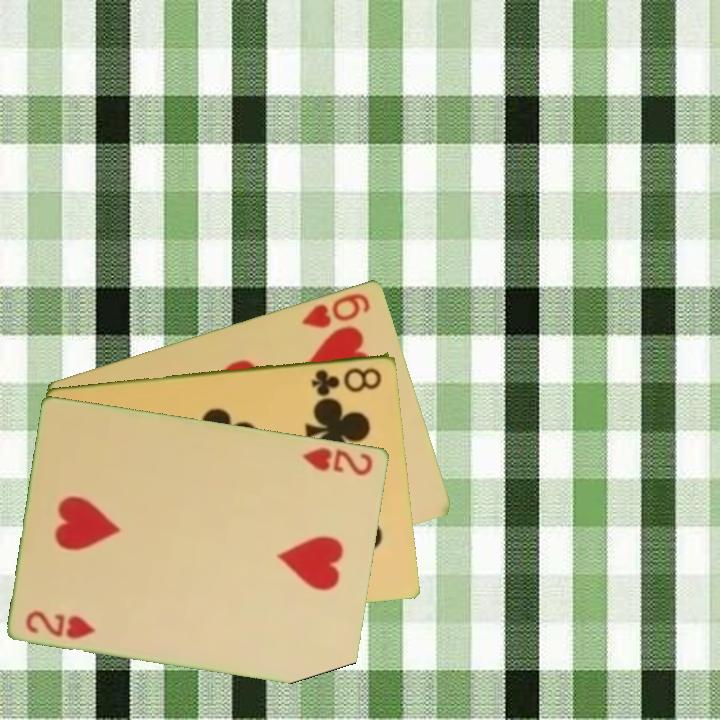2h: (23, 606, 99, 642), (299, 443, 376, 478)
6h: (299, 289, 373, 331)
8c: (308, 363, 385, 397)
